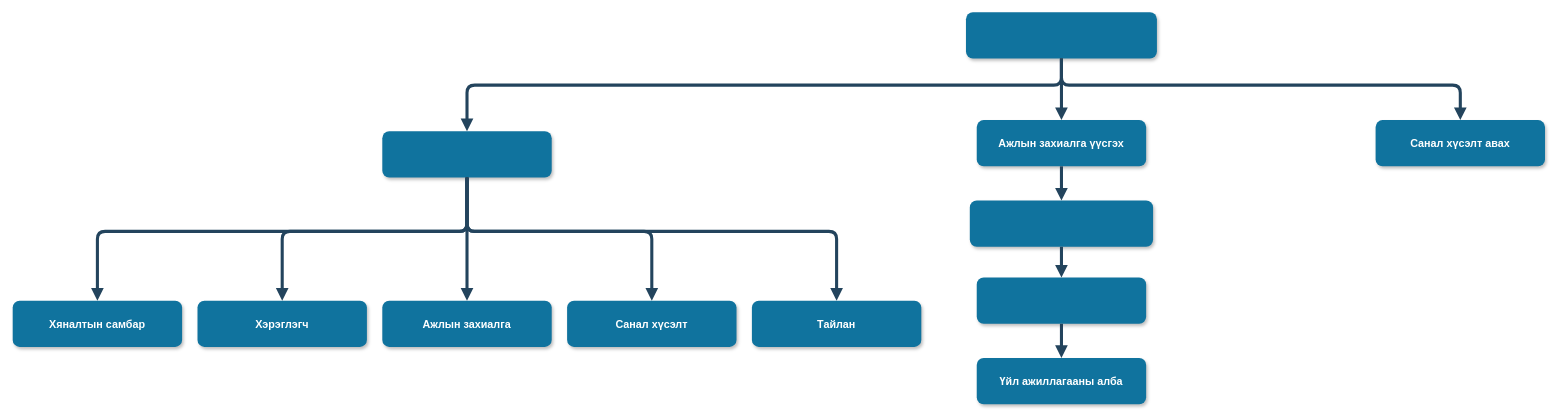
This 1558x417 diagram has some shape labels left out. The shapes that lost their labels are listed below. From the top down, each one's centre as x and y in pixels, then its label:
point (1061, 36): Firs Page(Танилцуулга хуудас) helpdesk.greengroup.mn
point (467, 155): Нэвтрэх
point (1061, 224): Мэдээлэл технологийн алба
point (1061, 301): Инженер технологийн алба
